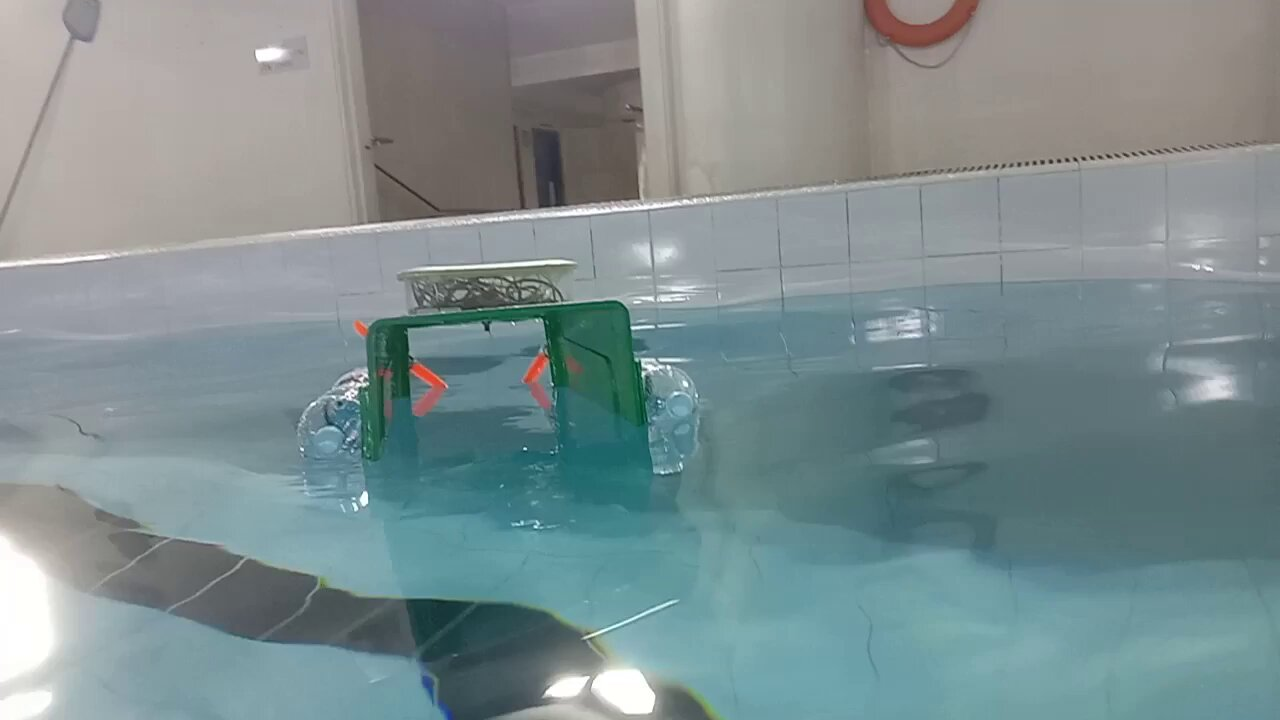drone: (295, 253, 705, 487)
